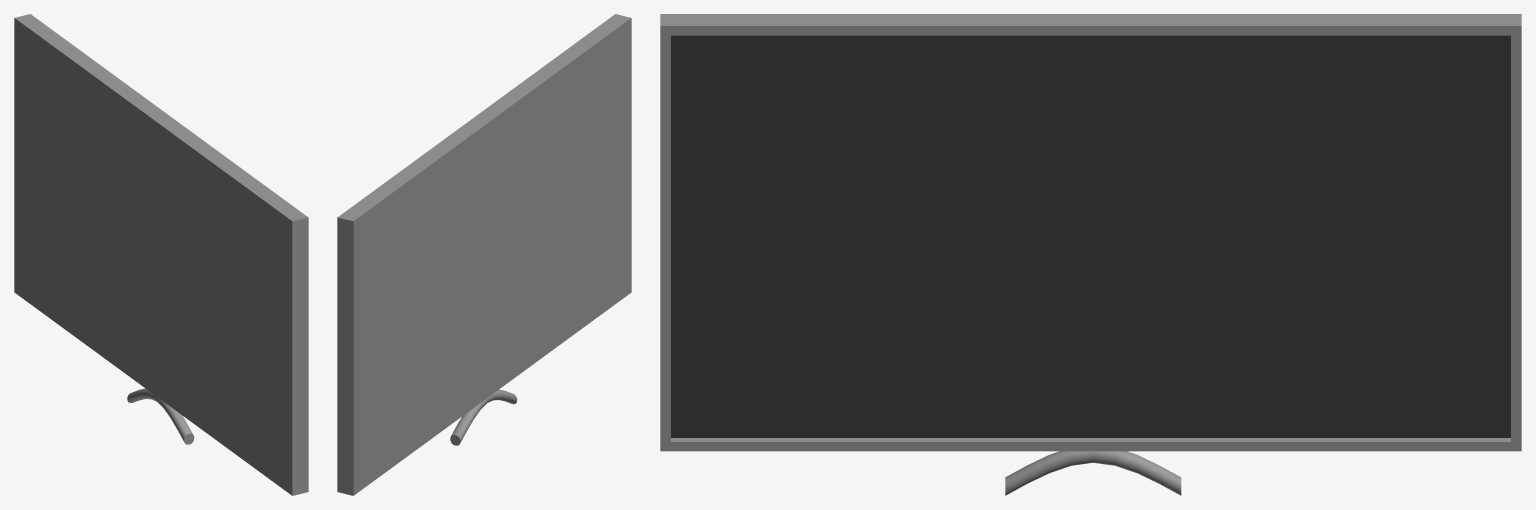
3 views of the same model, side by side, from view 1: azimuth 30°, elevation 25°; view 2: azimuth 150°, elevation 25°; view 3: azimuth 270°, elevation 25° (orthographic). The views are drawn at different scales.
Visible parts, largest first — view 1: TV; view 2: TV; view 3: TV.
Part boxes in pixels (x1,y1,x2,y2): TV: [14, 14, 308, 495]; TV: [337, 14, 631, 495]; TV: [660, 14, 1521, 495].
Bounding box in the file's own units: 0.00357 × 0.0651 × 0.107.
Materials: 1 (1 with a texture image).
